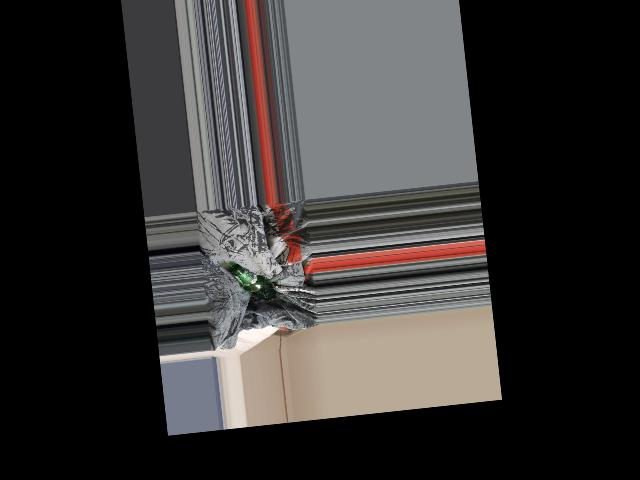beer: (228, 259, 276, 303)
